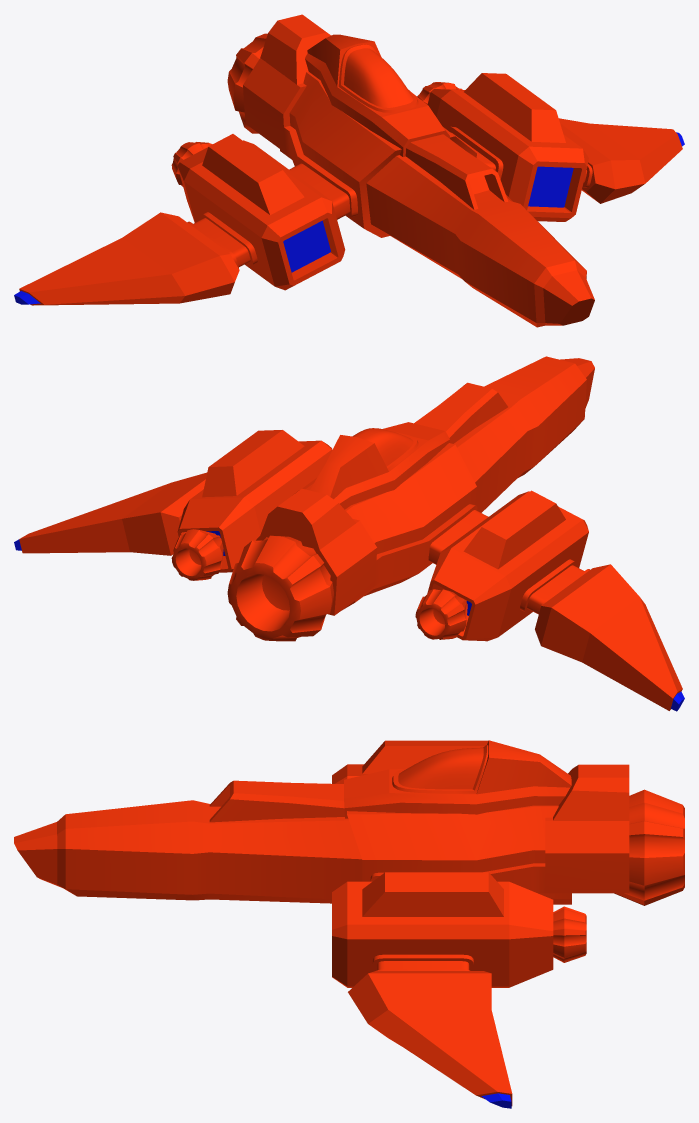
The model's file is M_Ship_Player_Boost_1.fbx.
3 renders of one model, top to bottom at view 1: azimuth 30°, elevation 25°; view 2: azimuth 150°, elevation 25°; view 3: azimuth 270°, elevation 25°, orthographic. The views are drawn at different scales.
Parts seen in each view (by area): view 1: Ship_Boost_1_Base_low; view 2: Ship_Boost_1_Base_low; view 3: Ship_Boost_1_Base_low.
Boxes of the visible parts, x1,y1,x2,y2 form: Ship_Boost_1_Base_low: (14, 14, 684, 327); Ship_Boost_1_Base_low: (14, 356, 684, 711); Ship_Boost_1_Base_low: (14, 740, 684, 1108).
Bounding box in the file's own units: 1048 × 281 × 879.
